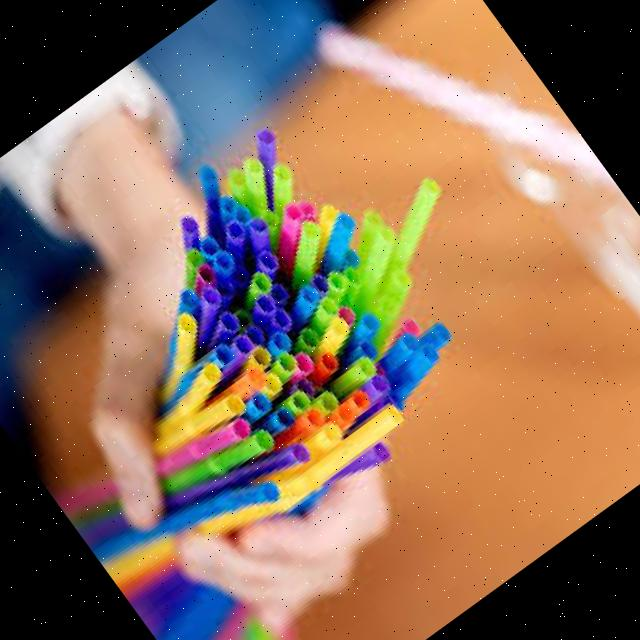plastic: (86, 429, 298, 616)
